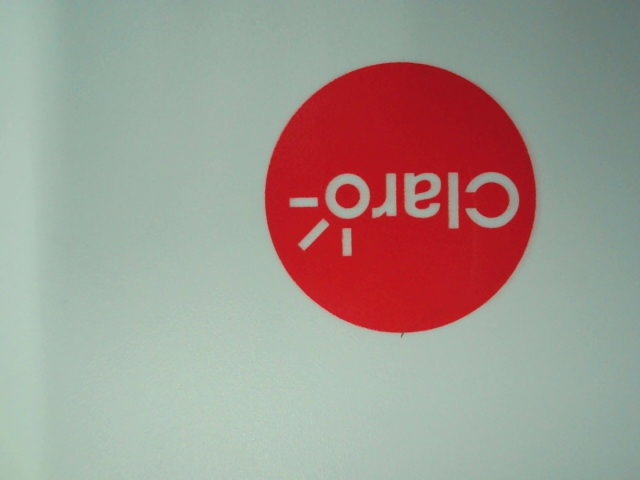BC_ClaorRed: (238, 52, 561, 341)
